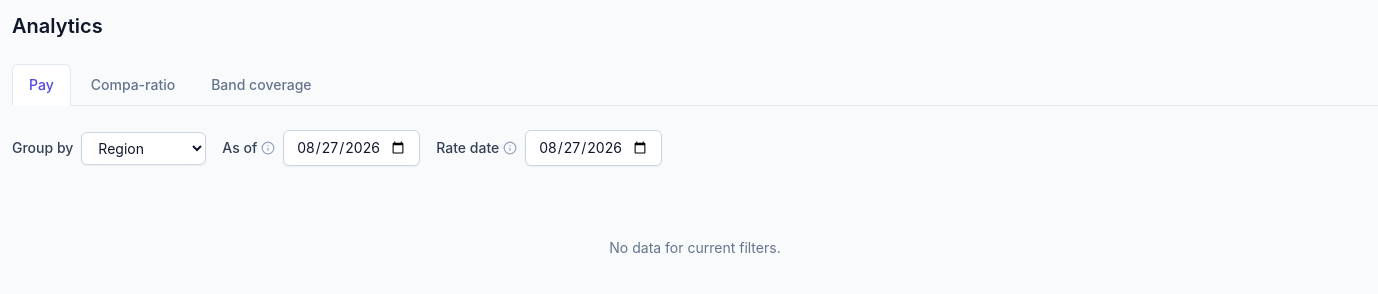
AnalyticsDashboard › switches to compa-ratio tab
The width and height of the screenshot is (1378, 294).
Click the button "Compa-ratio".
click(133, 84)  # box [75,64,191,105]
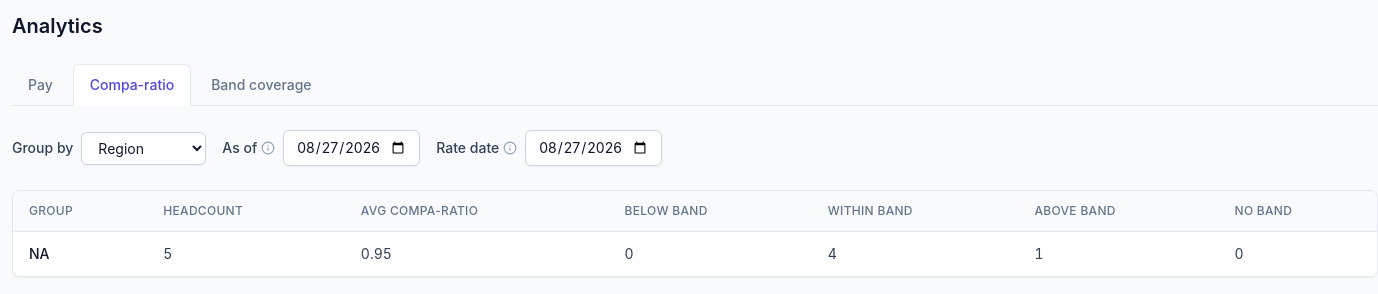
Result: the text "0.95" is shown at [345,232,609,276]
